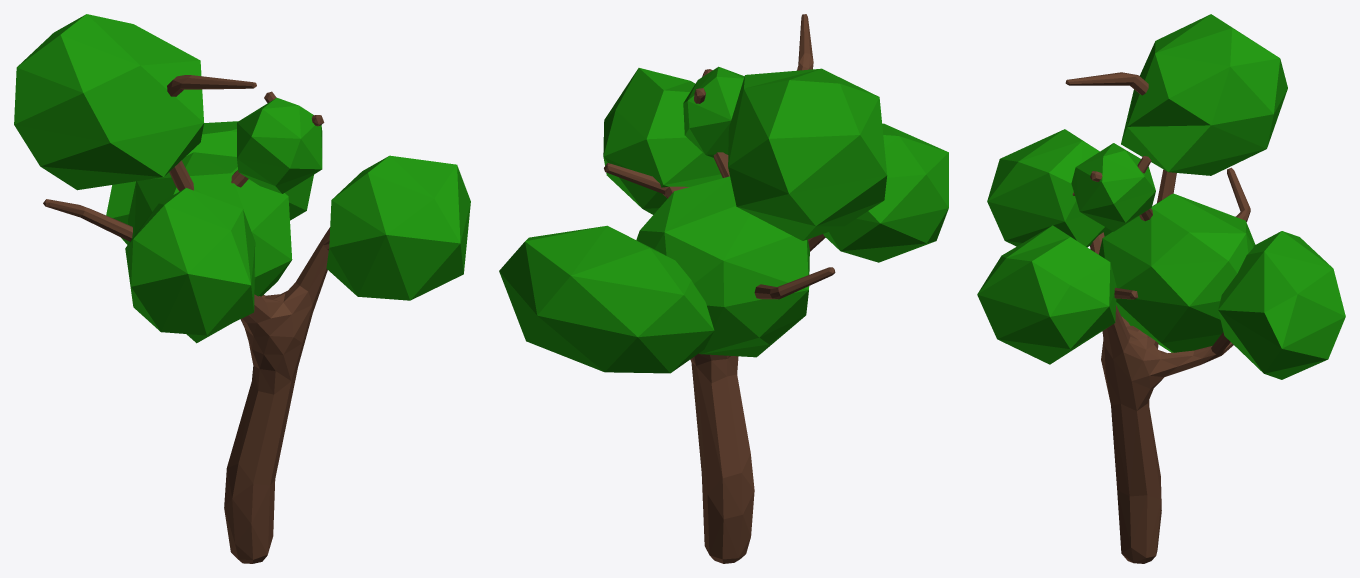
The model's file is BigTree.dae.
3 views of the same model, side by side, from view 1: azimuth 30°, elevation 25°; view 2: azimuth 150°, elevation 25°; view 3: azimuth 270°, elevation 25° (orthographic). The views are drawn at different scales.
Parts seen in each view (by area): view 1: Cube; view 2: Cube; view 3: Cube.
Part boxes in pixels (x1,y1,x2,y2): Cube: (14,14,470,563); Cube: (499,14,948,563); Cube: (977,14,1345,563).
Size of the model in its own units: 5.93 by 5.72 by 8.25.
1 material, 1 textured.
